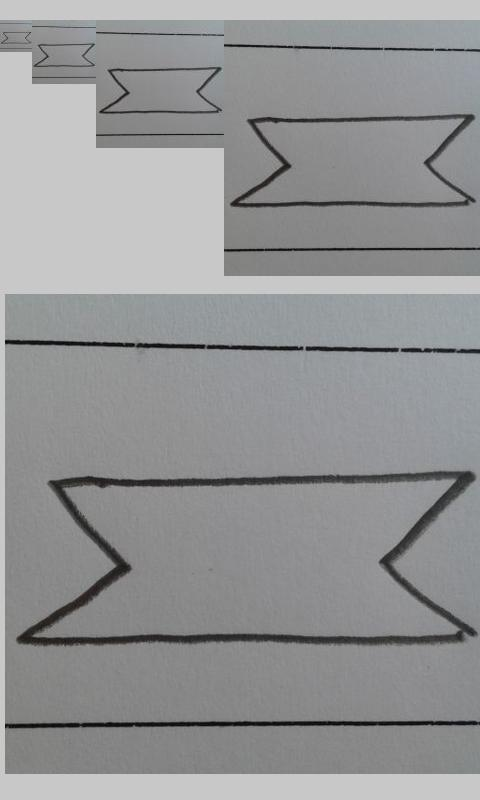edit_text: (20, 470, 473, 651), (230, 113, 475, 208), (99, 66, 223, 115), (33, 43, 95, 67), (1, 31, 32, 45)
